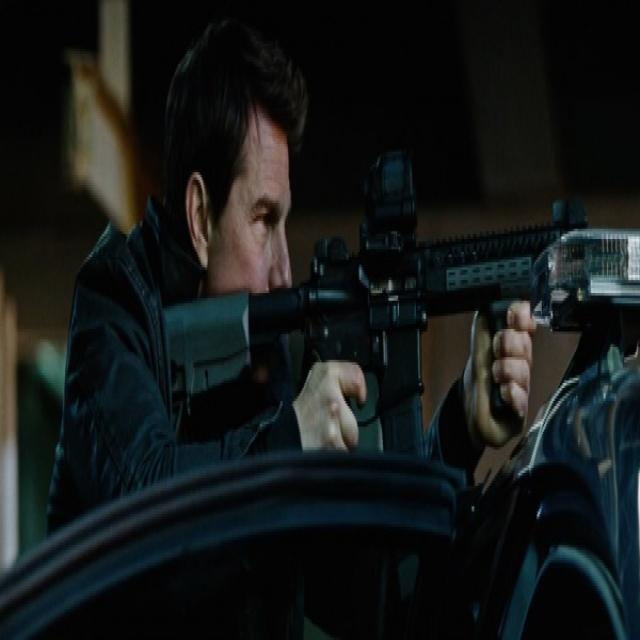rifle: (161, 140, 640, 476)
